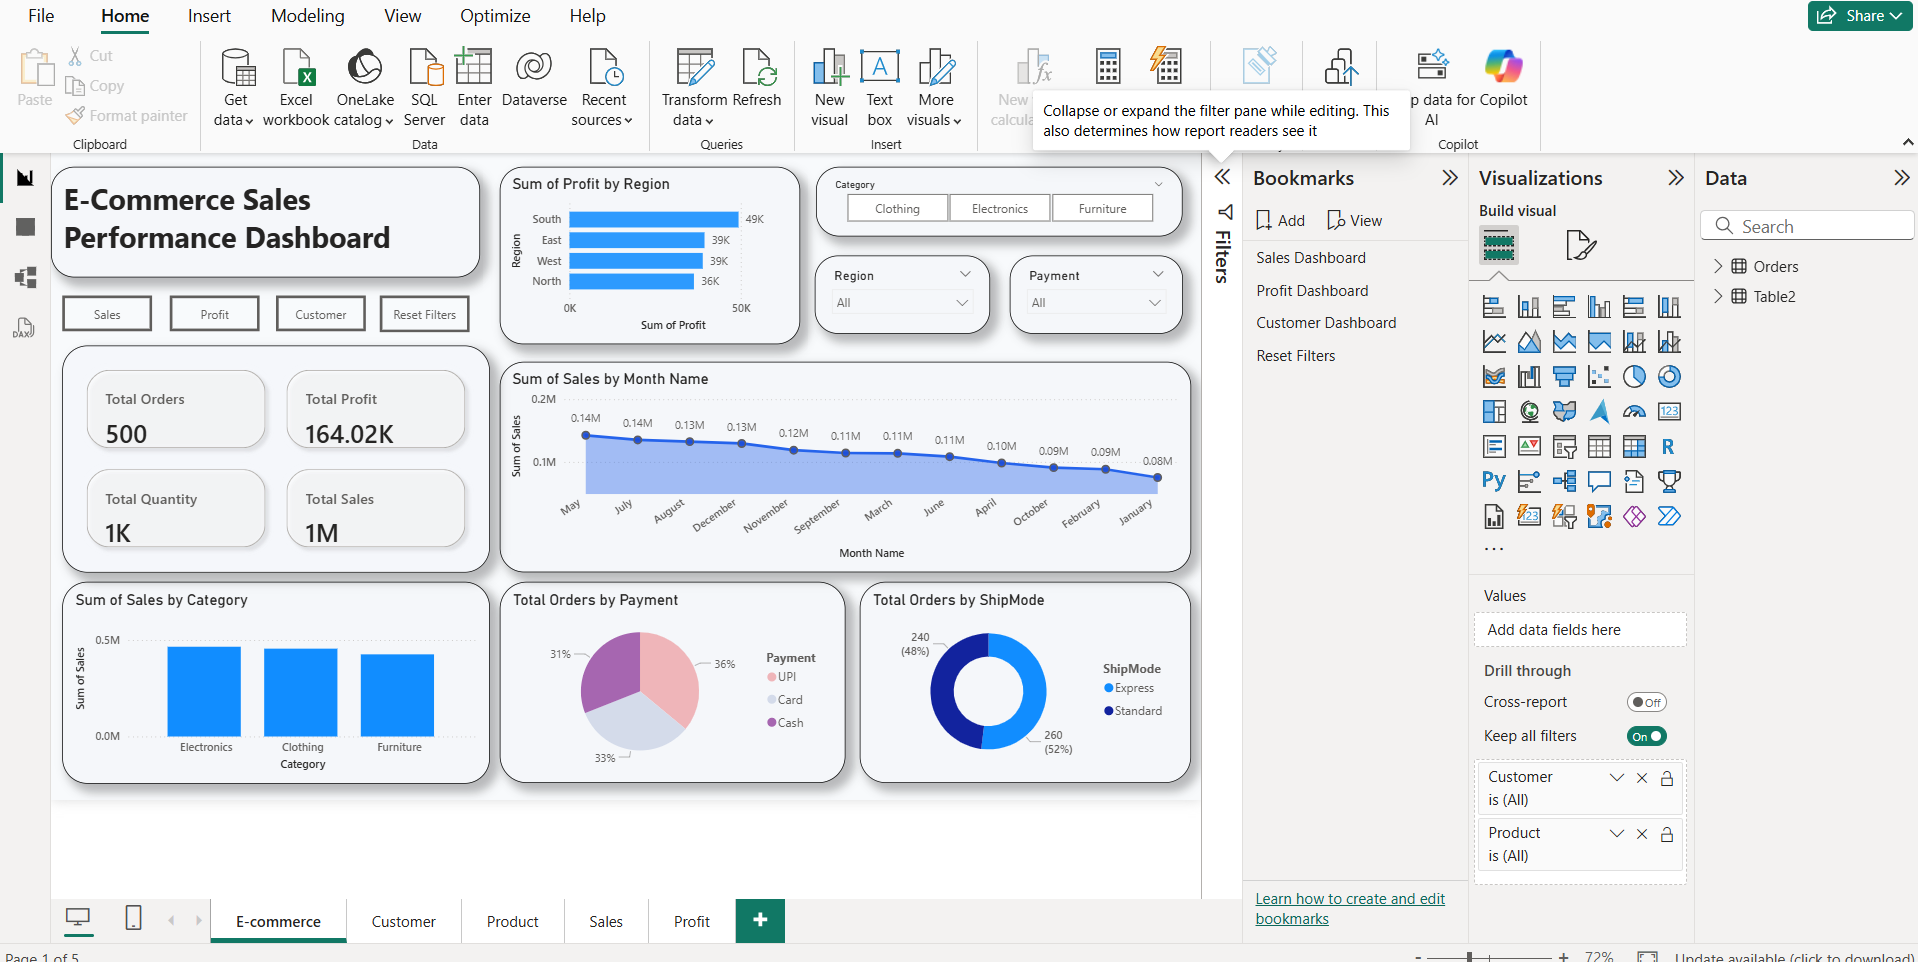

What the dashboard file says about the page in this screenshot:
{"tool":"powerbi","page":{"name":"E-commerce","canvas":[1280,720],"ordinal":0},"visuals":[{"type":"columnChart","fields":{"Y":["Sum(Orders.Sales)"],"Category":["Orders.Category"]},"box":[12.3,477.5,476.2,225],"z":0},{"type":"barChart","fields":{"Y":["Sum(Orders.Profit)"],"Category":["Orders.Region"]},"box":[499.5,15.7,334.2,197.9],"z":1000},{"type":"pieChart","fields":{"Category":["Orders.Payment"],"Y":["Orders.Total Orders"]},"box":[499.5,477.8,384.9,224.4],"z":2000},{"type":"donutChart","fields":{"Y":["Orders.Total Orders"],"Category":["Orders.ShipMode"]},"box":[900,477.8,369.2,224.4],"z":3000},{"type":"lineChart","fields":{"Y":["Sum(Orders.Sales)"],"Category":["Orders.Month Name"]},"box":[499.5,231.9,769.8,234.6],"z":4000},{"type":"cardVisual","fields":{"Data":["Orders.Total Orders","Orders.Total Profit","Orders.Total Quantity","Orders.Total Sales"]},"box":[12.3,214.1,476.2,252.5],"z":5000},{"type":"actionButton","box":[12.1,158,100.1,39.8],"z":6000},{"type":"actionButton","box":[132.7,158,100.1,39.8],"z":7000},{"type":"actionButton","box":[250.9,158,100.1,39.8],"z":8000},{"type":"textbox","box":[0,15.7,477.8,123.1],"z":9000},{"type":"slicer","fields":{"Values":["Orders.Region"]},"box":[850.5,114.6,195.4,86.9],"z":10000},{"type":"slicer","fields":{"Values":["Orders.Category"]},"box":[851.7,15.7,407.8,77.2],"z":11000},{"type":"slicer","fields":{"Values":["Orders.Payment"]},"box":[1066.5,114.6,193,86.9],"z":12000},{"type":"actionButton","box":[365.6,158,100.1,41],"z":13000}]}

Visuals, with their boxes on the page's 1280x720 design canvas (x1, y1, x2, y2). These are canvas units, not pixel positions in the 1918x962 screenshot, which may show the page scaled, cropped or inside an application window:
columnChart - Sum(Orders.Sales) x Orders.Category: [12, 478, 488, 702]
barChart - Sum(Orders.Profit) x Orders.Region: [500, 16, 834, 214]
pieChart - Orders.Payment x Orders.Total Orders: [500, 478, 884, 702]
donutChart - Orders.Total Orders x Orders.ShipMode: [900, 478, 1269, 702]
lineChart - Sum(Orders.Sales) x Orders.Month Name: [500, 232, 1269, 466]
cardVisual - Orders.Total Orders x Orders.Total Profit: [12, 214, 488, 467]
actionButton: [12, 158, 112, 198]
actionButton: [133, 158, 233, 198]
actionButton: [251, 158, 351, 198]
textbox: [0, 16, 478, 139]
slicer - Orders.Region: [850, 115, 1046, 202]
slicer - Orders.Category: [852, 16, 1260, 93]
slicer - Orders.Payment: [1066, 115, 1260, 202]
actionButton: [366, 158, 466, 199]
